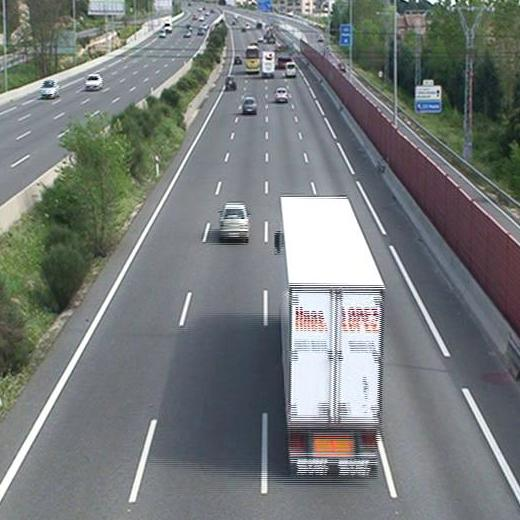bus: (244, 48, 260, 74)
car: (217, 203, 250, 244), (242, 96, 258, 115), (275, 88, 289, 103), (225, 76, 237, 90)
truck: (273, 195, 386, 477), (260, 51, 275, 76)
van: (285, 63, 298, 78)
